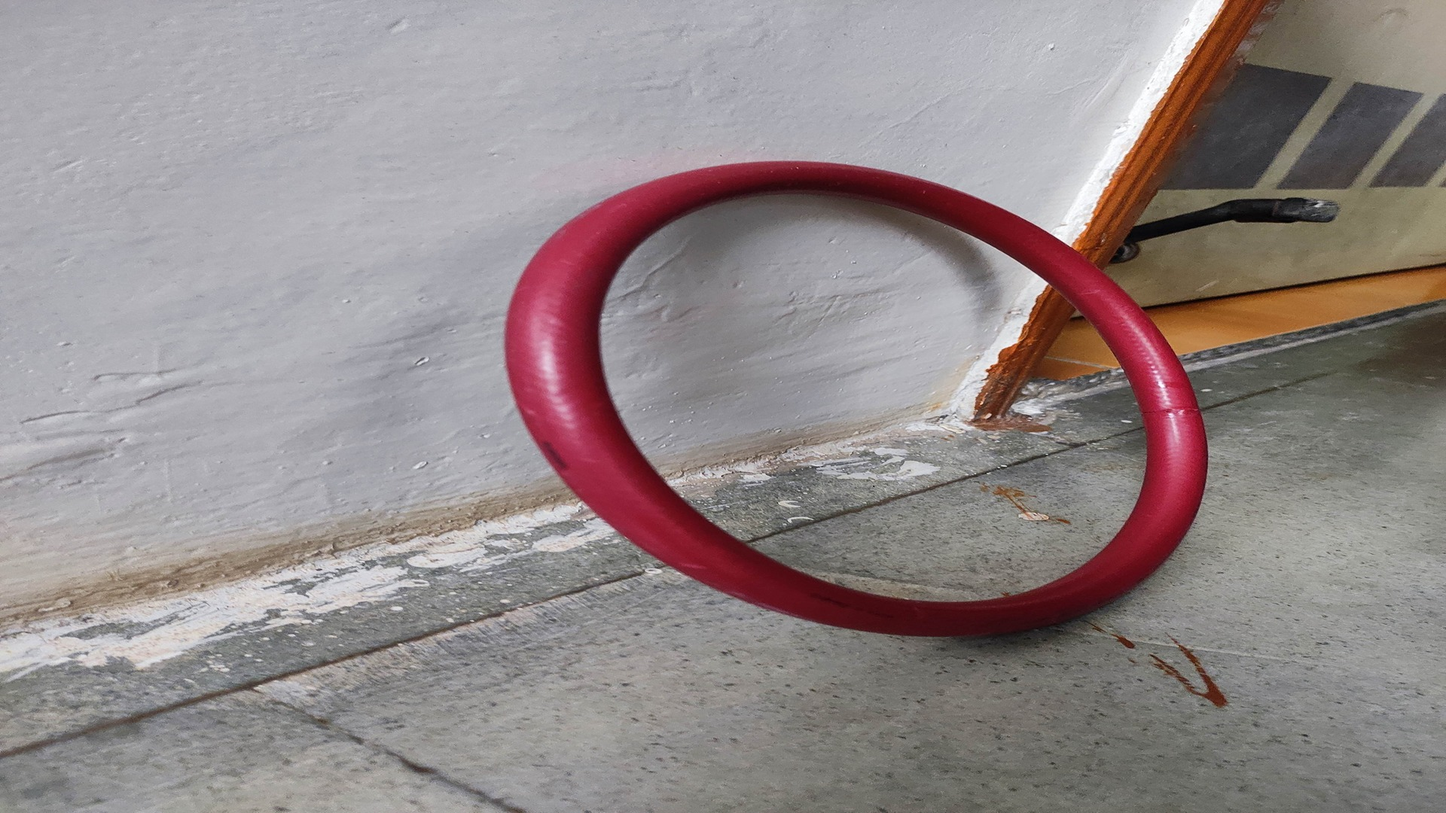Red ring: (501, 162, 1211, 641)
